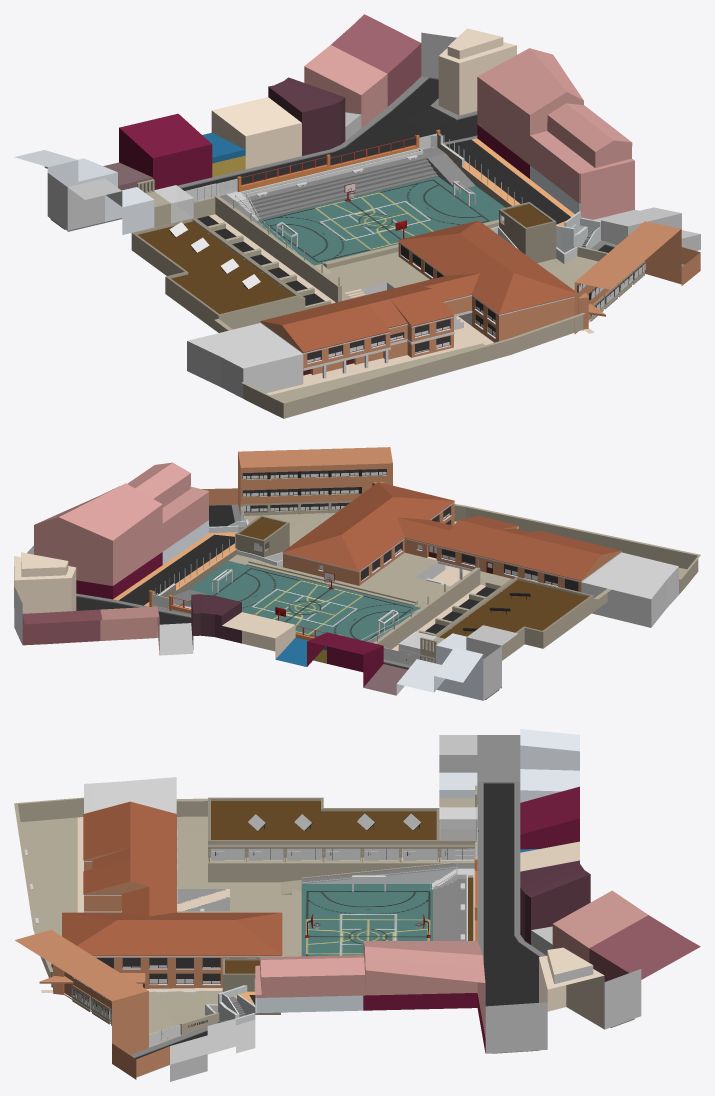
File: Colegi.fbx
3 renders of one model, top to bottom at view 1: azimuth 30°, elevation 25°; view 2: azimuth 150°, elevation 25°; view 3: azimuth 270°, elevation 25°, orthographic. The views are drawn at different scales.
Visible parts, largest first — view 1: Edificis, ColegiBuildingInside, ColegiOutside, Ground, stadium, ColegiSueloDentro, ColegiBuildingInside.001, MesEdificis, Colegi Bleachers, ColegiGroundInside, Colegi EdificiStairs, Bricks fence (+3 smaller); view 2: Edificis, ColegiBuildingInside, ColegiOutside, MesEdificis, stadium, ColegiGroundInside, ColegiBuildingInside.001, Ground, ColegiSueloDentro, Colegi EdificiStairs, Bricks fence, ColegiOutside.001 (+2 smaller); view 3: Edificis, ColegiBuildingInside, ColegiOutside, Ground, ColegiGroundInside, stadium, ColegiSueloDentro, MesEdificis, Ramp+stairs, ColegiBuildingInside.001, Colegi WindowsPeques.001, Colegi Bleachers (+6 smaller).
Part boxes in pixels (x1=…): Edificis: x1=14, y1=14, x2=700, y2=250; ColegiBuildingInside: x1=260, y1=220, x2=605, y2=383; ColegiOutside: x1=131, y1=179, x2=341, y2=332; Ground: x1=50, y1=76, x2=574, y2=231; stadium: x1=257, y1=176, x2=505, y2=265; ColegiSueloDentro: x1=241, y1=313, x2=585, y2=418; ColegiBuildingInside.001: x1=187, y1=323, x2=303, y2=398; MesEdificis: x1=574, y1=221, x2=700, y2=334; Colegi Bleachers: x1=247, y1=147, x2=475, y2=220; ColegiGroundInside: x1=214, y1=219, x2=644, y2=333; Colegi EdificiStairs: x1=491, y1=202, x2=556, y2=262; Bricks fence: x1=237, y1=129, x2=514, y2=207; Edificis: x1=14, y1=462, x2=518, y2=700; ColegiBuildingInside: x1=282, y1=482, x2=621, y2=592; ColegiOutside: x1=373, y1=559, x2=593, y2=663; MesEdificis: x1=201, y1=447, x2=392, y2=515; stadium: x1=189, y1=561, x2=420, y2=641; ColegiGroundInside: x1=228, y1=513, x2=611, y2=611; ColegiBuildingInside.001: x1=581, y1=552, x2=678, y2=627; Ground: x1=18, y1=532, x2=501, y2=699; ColegiSueloDentro: x1=454, y1=504, x2=700, y2=594; Colegi EdificiStairs: x1=235, y1=515, x2=289, y2=565; Bricks fence: x1=149, y1=548, x2=342, y2=640; ColegiOutside.001: x1=398, y1=631, x2=436, y2=665; Edificis: x1=170, y1=729, x2=700, y2=1081; ColegiBuildingInside: x1=39, y1=801, x2=282, y2=995; ColegiOutside: x1=208, y1=785, x2=477, y2=882; Ground: x1=232, y1=782, x2=634, y2=1053; ColegiGroundInside: x1=41, y1=798, x2=301, y2=1047; stadium: x1=301, y1=884, x2=432, y2=956; ColegiSueloDentro: x1=14, y1=797, x2=83, y2=987; MesEdificis: x1=15, y1=930, x2=169, y2=1079; Ramp+stairs: x1=301, y1=862, x2=474, y2=940; ColegiBuildingInside.001: x1=84, y1=777, x2=176, y2=813; Colegi WindowsPeques.001: x1=248, y1=848, x2=437, y2=860; Colegi Bleachers: x1=433, y1=878, x2=466, y2=940.
Size of what is drawn, in the model's own units: 11231 by 2289 by 12039.
